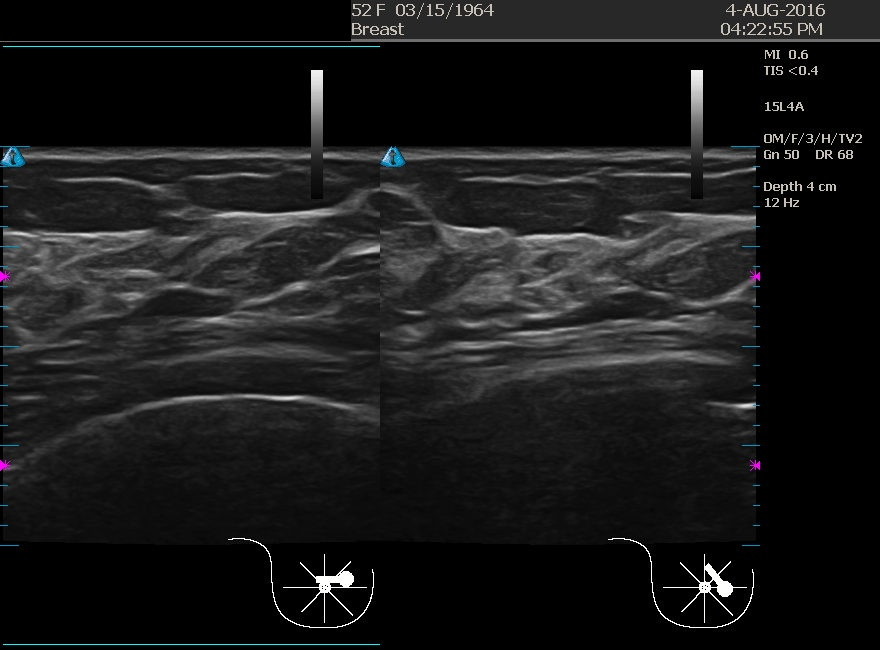BIRADS_3: (46, 153, 247, 353), (503, 214, 703, 414)
